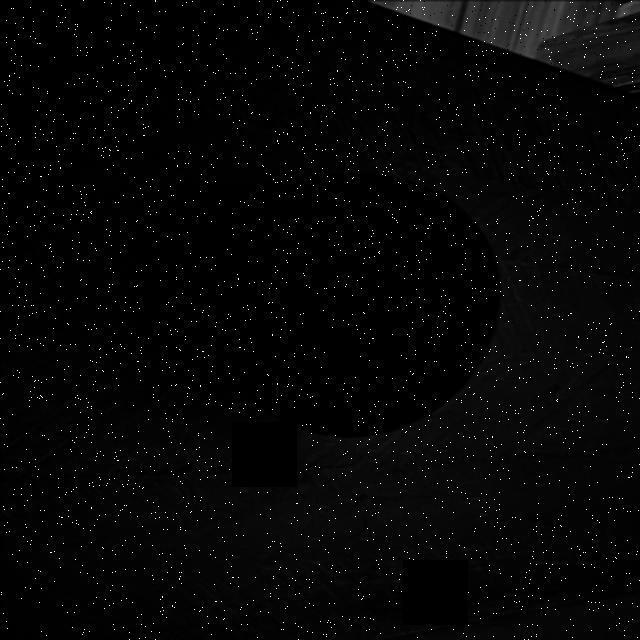egg: (201, 168, 506, 444)
